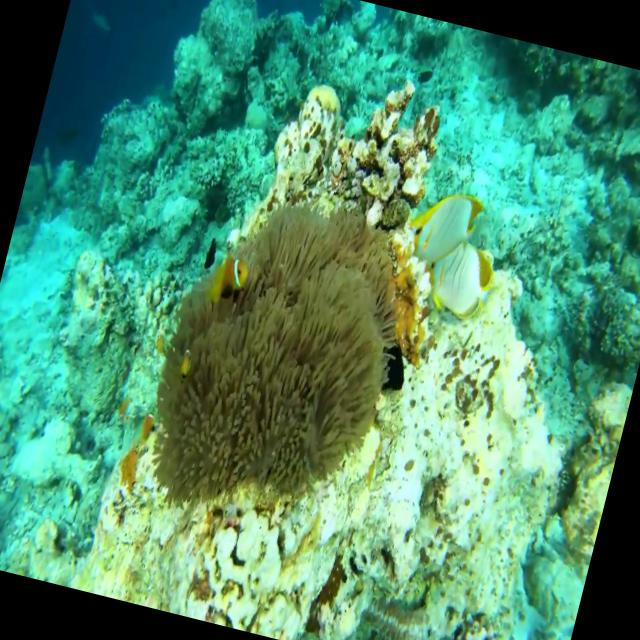fish: (399, 173, 488, 274), (418, 228, 502, 328), (204, 238, 256, 310)
